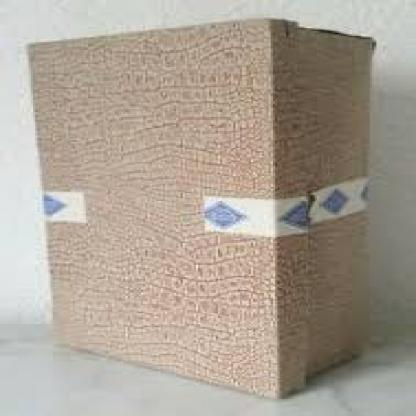box: (22, 16, 372, 398)
